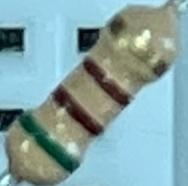Brown: (80, 55, 133, 109), (52, 84, 103, 136)
Green: (15, 112, 81, 175)
Side-Gold: (105, 12, 171, 79)
